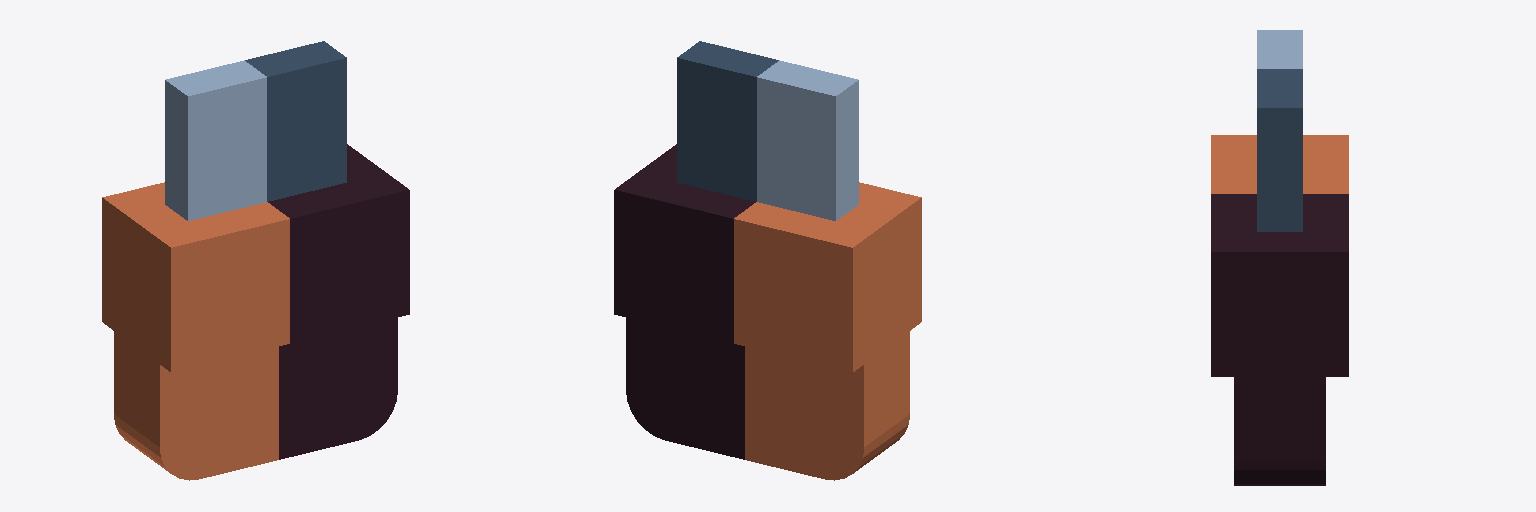
File: usb.obj
The picture shows the model from 3 angles: view 1: azimuth 30°, elevation 25°; view 2: azimuth 150°, elevation 25°; view 3: azimuth 270°, elevation 25°; orthographic projection.
Size of the model in its own units: 6 by 9 by 3.